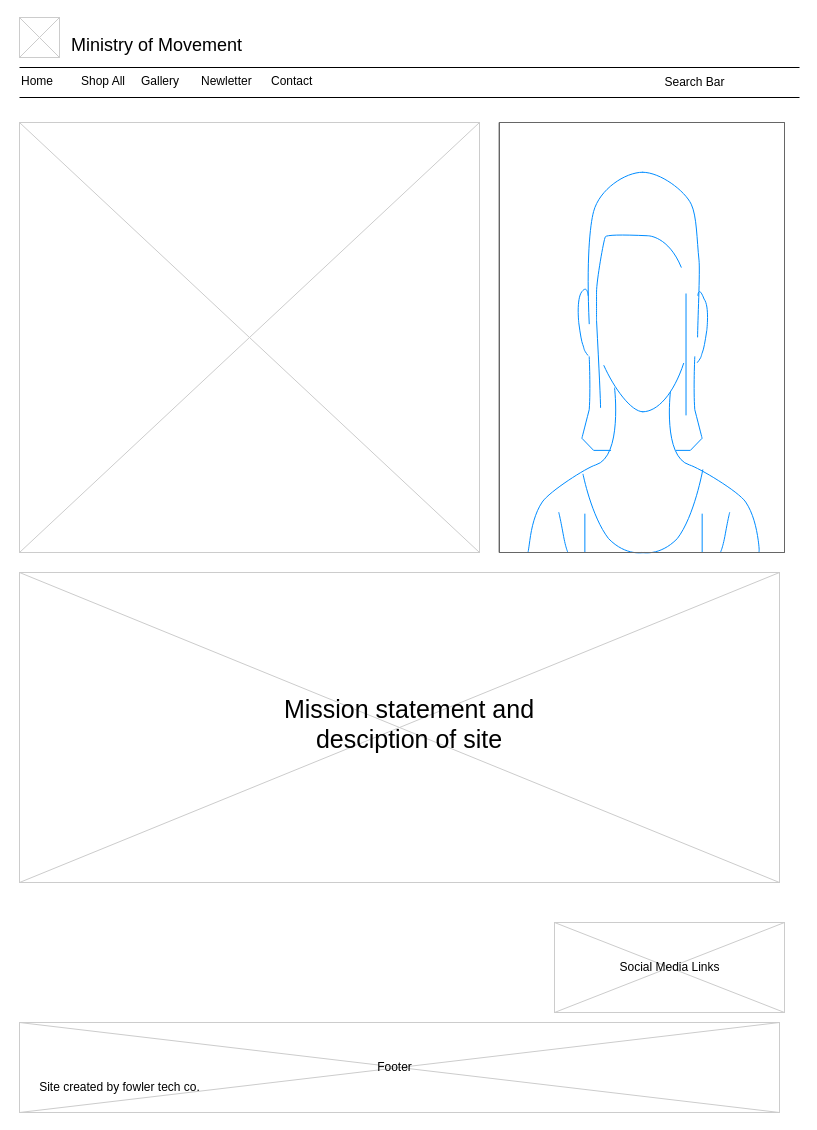
Some shapes in this 817 by 1130 pixel diagram are drawn without their labels. The centre of each missing label's shape, as x and y in pixels:
Butterfly Logo: the point at 39,37
Title/subtitle of business: the point at 249,337
